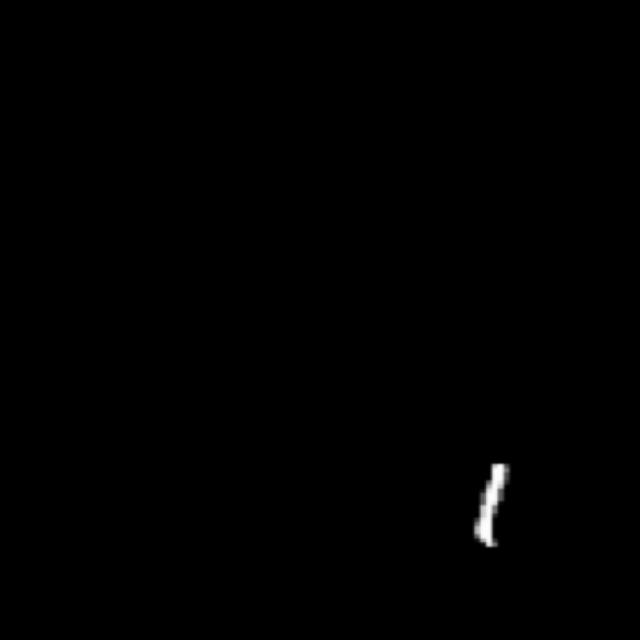one -1-: (454, 452, 538, 564)
